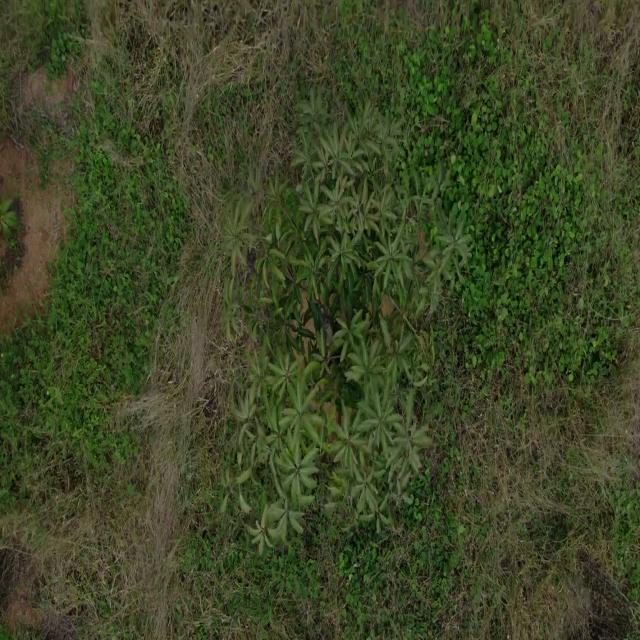mangoTree: (218, 84, 477, 565)
